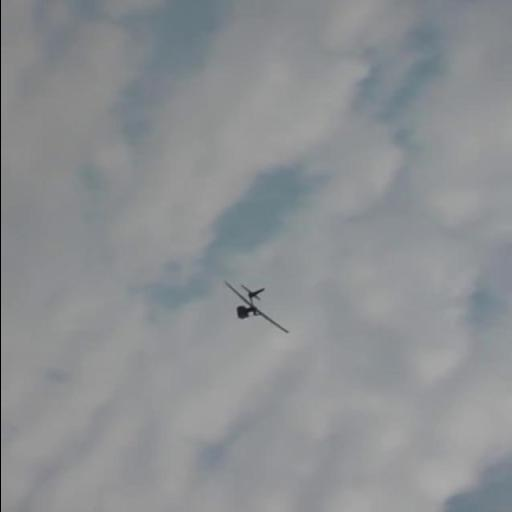uav: (223, 280, 289, 334)
